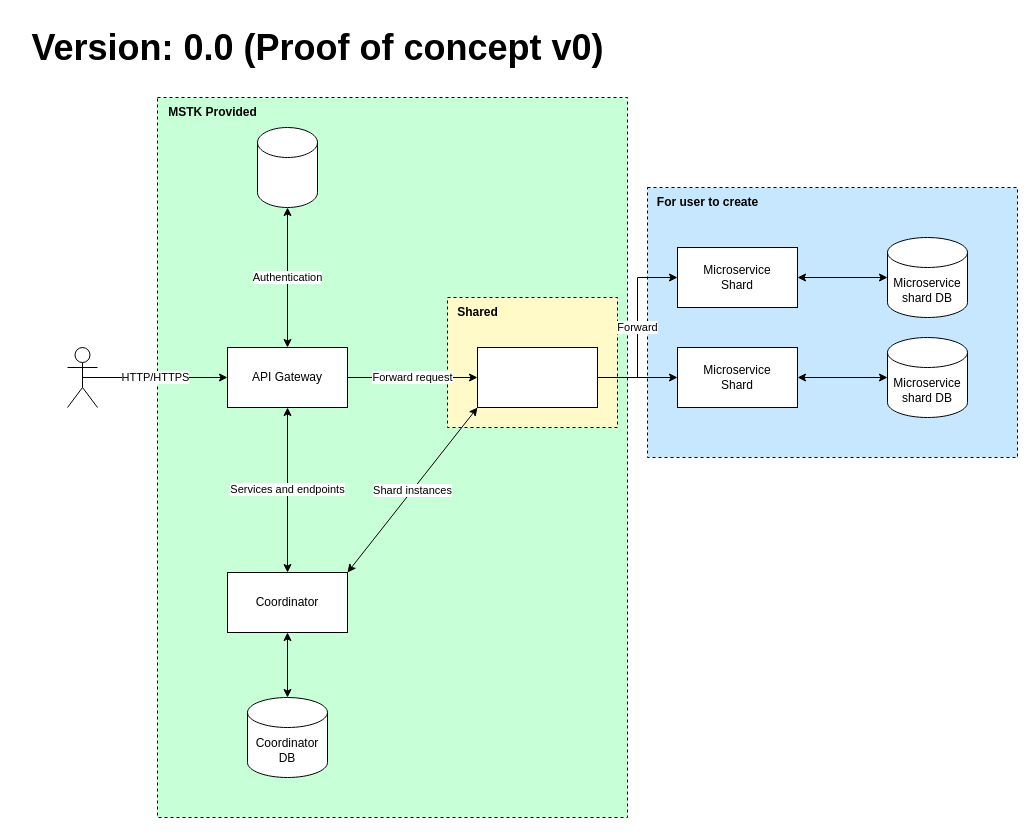
Image size: 1035x835. Some labels were removed from this diagram. The centre of each missing label's shape, as x and y in pixels:
Auth DB: (287,167)
Load balancer: (537,377)
User: (82,377)
